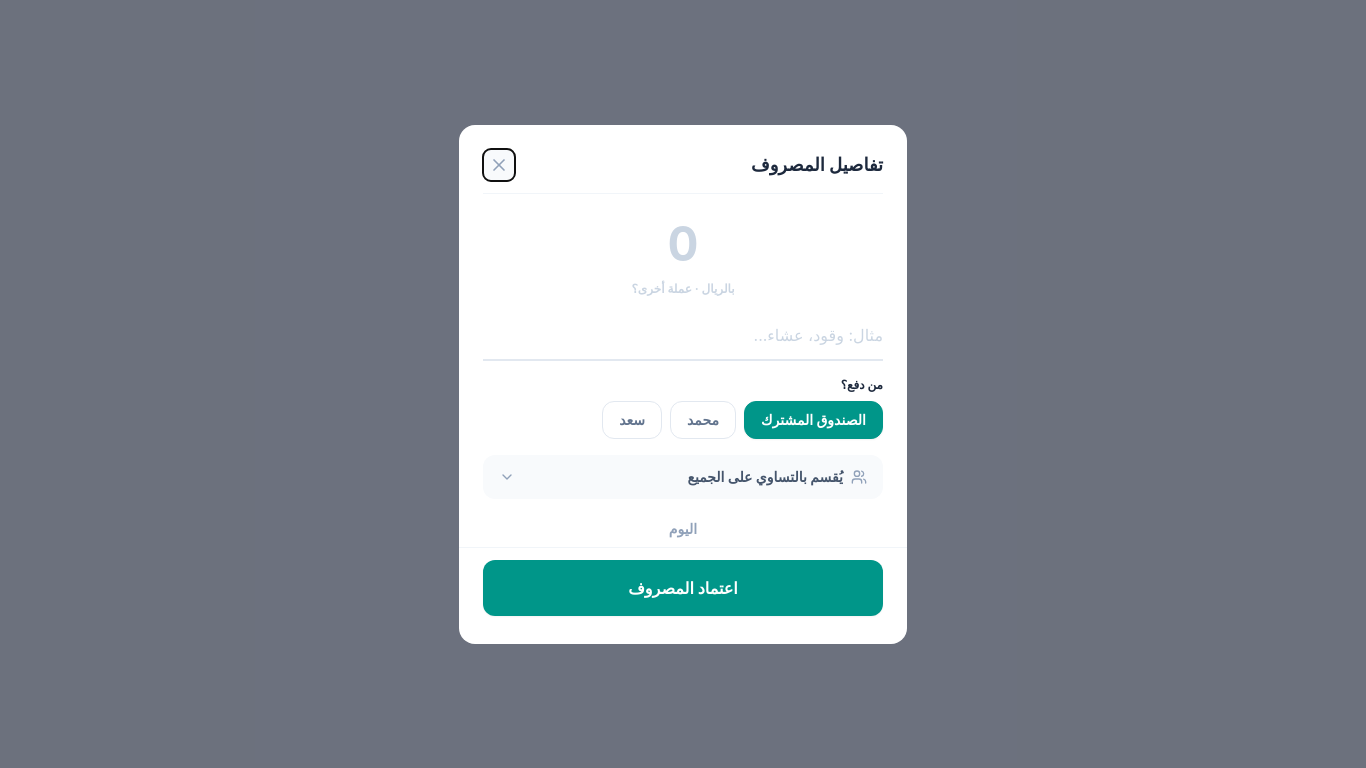
Test: ExpenseForm — الخيارات المتقدمة لا تظهر إلا عند الحاجة › التاريخ يبقى سطراً باهتاً حتى يُنقر
This screenshot has width=1366, height=768.
Click the button "اليوم" at (683, 528), box [483,514,883,542]
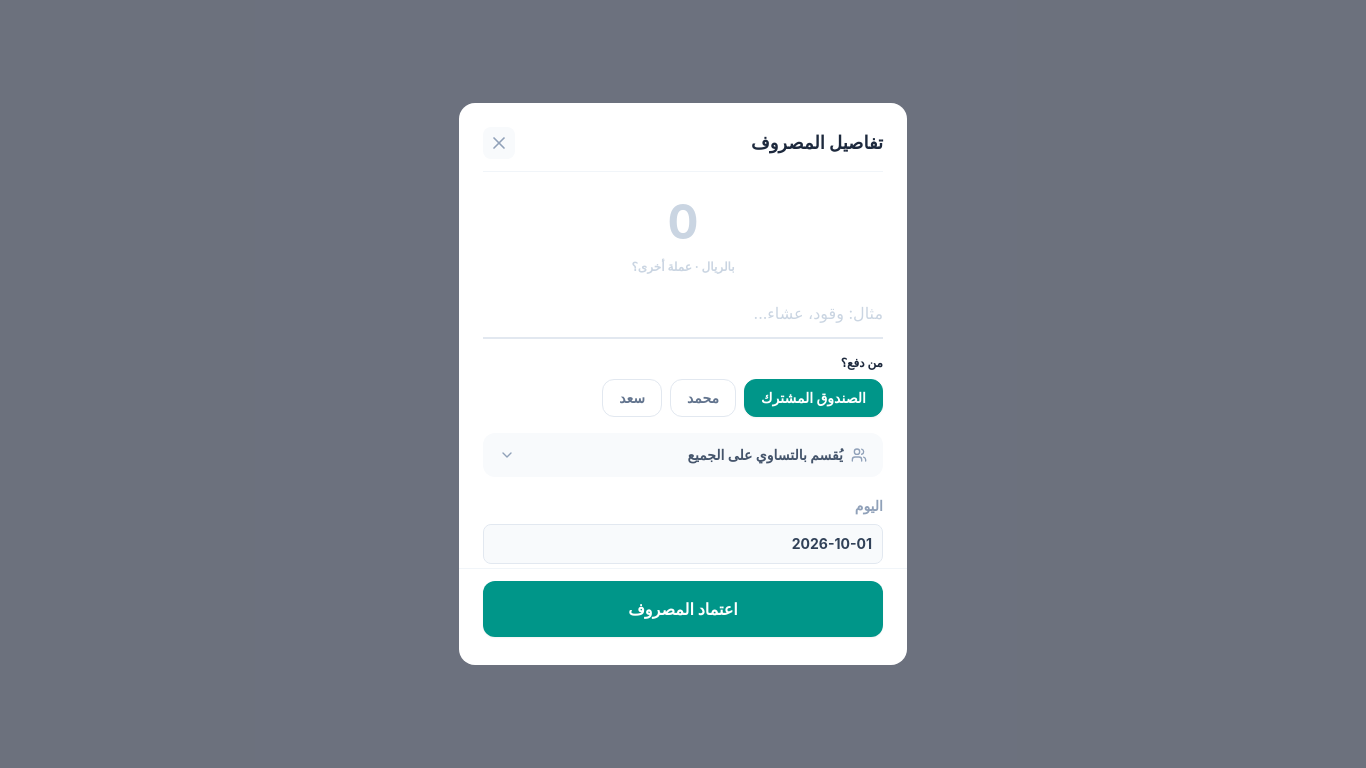
Check: the date field named "التاريخ" is shown, box [483,524,883,564]
